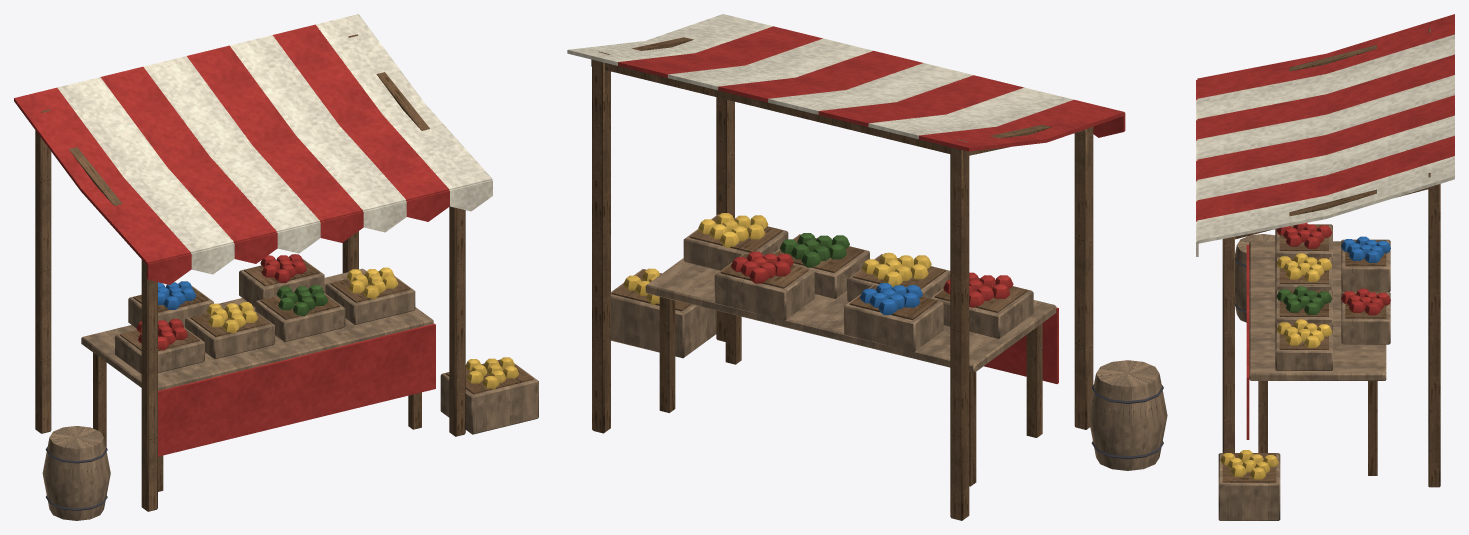
The model's file is biz_stall_t1_fruit.glb.
The picture shows the model from 3 angles, left to right: view 1: azimuth 30°, elevation 25°; view 2: azimuth 150°, elevation 25°; view 3: azimuth 270°, elevation 25°; orthographic projection. The views are drawn at different scales.
Visible parts, largest first — view 1: cloth_red, cloth_cream, wood, wood_dark, cloth_gold, leaf_dark, paint_azure; view 2: wood_dark, wood, cloth_red, cloth_cream, cloth_gold, leaf_dark, paint_azure; view 3: cloth_red, cloth_cream, wood, wood_dark, cloth_gold, leaf_dark, paint_azure.
Part boxes in pixels (x1=…): cloth_red: x1=14, y1=24, x2=449, y2=456; cloth_cream: x1=57, y1=14, x2=492, y2=274; wood: x1=42, y1=258, x2=538, y2=520; wood_dark: x1=35, y1=34, x2=533, y2=511; cloth_gold: x1=206, y1=267, x2=519, y2=389; leaf_dark: x1=276, y1=285, x2=328, y2=316; paint_azure: x1=158, y1=281, x2=196, y2=309; wood_dark: x1=591, y1=37, x2=1093, y2=520; wood: x1=611, y1=214, x2=1167, y2=470; cloth_red: x1=618, y1=26, x2=1125, y2=383; cloth_cream: x1=567, y1=14, x2=1073, y2=139; cloth_gold: x1=623, y1=213, x2=931, y2=304; leaf_dark: x1=780, y1=233, x2=849, y2=267; paint_azure: x1=860, y1=283, x2=922, y2=315; cloth_red: x1=1196, y1=14, x2=1454, y2=439; cloth_cream: x1=1196, y1=34, x2=1454, y2=256; wood: x1=1218, y1=224, x2=1390, y2=520; wood_dark: x1=1222, y1=28, x2=1440, y2=487; cloth_gold: x1=1220, y1=253, x2=1332, y2=479; leaf_dark: x1=1276, y1=286, x2=1332, y2=314; paint_azure: x1=1341, y1=236, x2=1390, y2=262.
Size of the model in its own units: 3.82 by 2.56 by 1.89.
8 materials, 8 textured.
